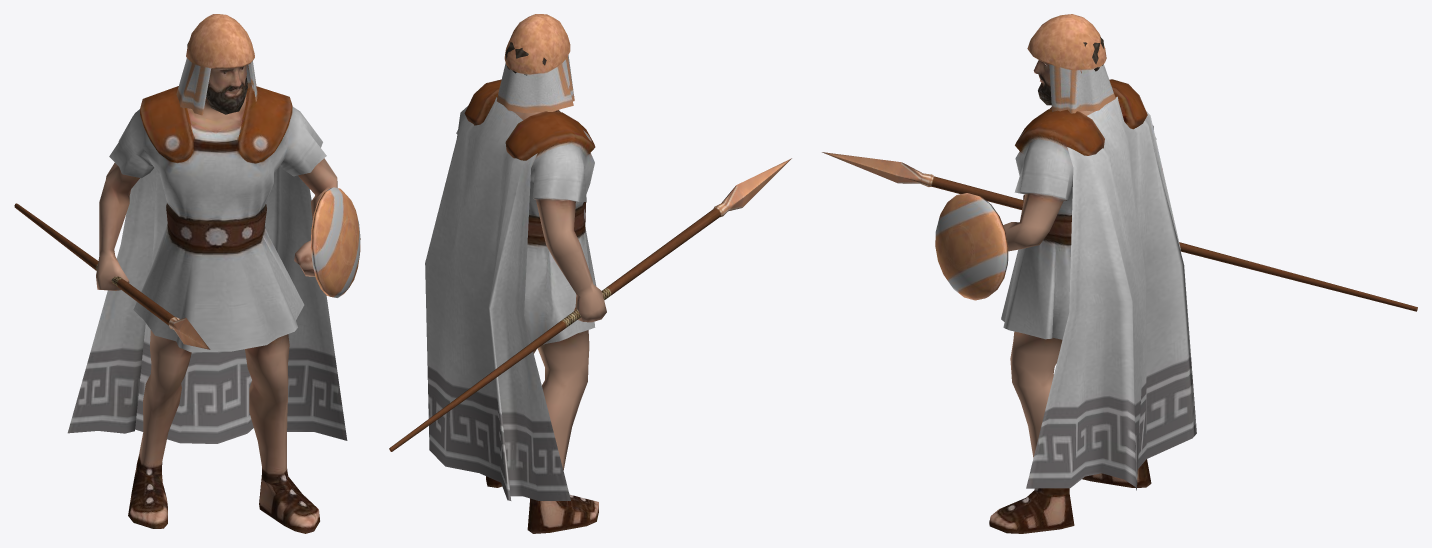
File: 6-peltast.glb
3 renders of one model, left to right at view 1: azimuth 30°, elevation 25°; view 2: azimuth 150°, elevation 25°; view 3: azimuth 270°, elevation 25°, orthographic. The views are drawn at different scales.
Bounding box in the file's own units: 1.06 × 2.09 × 2.32.
Materials: 4 (4 with a texture image).
